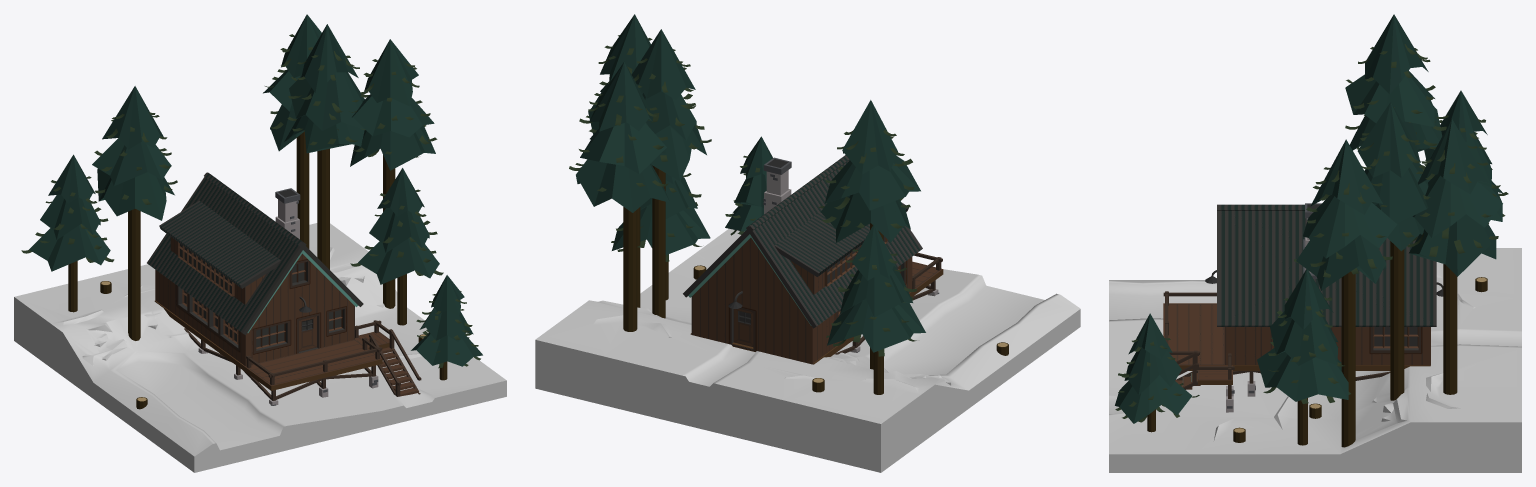
File: Cabin And Environment .gltf
3 views of the same model, side by side, from view 1: azimuth 30°, elevation 25°; view 2: azimuth 150°, elevation 25°; view 3: azimuth 270°, elevation 25° (orthographic). The views are drawn at different scales.
Parts seen in each view (by area): view 1: node-0; view 2: node-0; view 3: node-0.
Boxes of the visible parts, x1,y1,x2,y2 form: node-0: (14,14,506,472); node-0: (535,14,1080,472); node-0: (1109,14,1521,472).
Size of the model in its own units: 2253 by 1816 by 2000.
